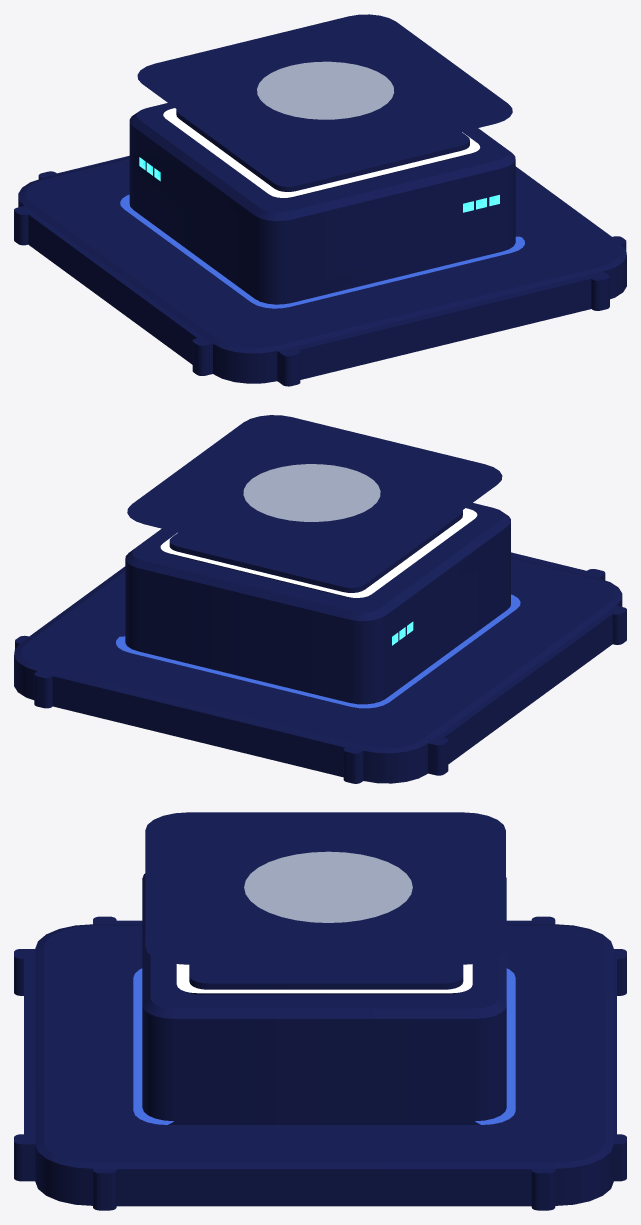
The model's file is Work_stuff_10.glb.
The picture shows the model from 3 angles, top to bottom: view 1: azimuth 30°, elevation 25°; view 2: azimuth 150°, elevation 25°; view 3: azimuth 270°, elevation 25°; orthographic projection. The views are drawn at different scales.
Visible parts, largest first — view 1: Main_platform.001, Main_platform, Suppourt, Platform, Cube.001, Cube.003, a.001, Main_platform.005, Main_platform.007, Main_platform.008; view 2: Main_platform.001, Main_platform, Suppourt, Platform, Cube.002, Cube.003, a.001, Main_platform.005, Main_platform.008, Main_platform.007, Cube.001; view 3: Main_platform, Main_platform.001, Suppourt, Platform, Cube.004, a.001, Main_platform.005, Cube.001, Main_platform.008, Main_platform.007, Cube.002, Cube.003.
Part boxes in pixels (x1,y1,x2,y2): Main_platform.001: (129,103,515,304); Main_platform: (18,157,626,383); Suppourt: (188,35,456,148); Platform: (137,14,512,172); Cube.001: (277,271,609,386); Cube.003: (14,206,212,375); a.001: (257,61,393,119); Main_platform.005: (176,109,469,198); Main_platform.007: (163,108,480,197); Main_platform.008: (120,194,524,308); Main_platform.001: (125,503,510,704); Main_platform: (14,557,622,783); Suppourt: (180,439,447,552); Platform: (127,415,502,573); Cube.002: (34,671,363,783); Cube.003: (428,605,626,775); a.001: (243,464,380,521); Main_platform.005: (169,510,462,597); Main_platform.008: (116,594,520,708); Main_platform.007: (160,508,477,597); Cube.001: (511,552,605,580); Main_platform: (35,924,613,1205); Main_platform.001: (142,873,506,1124); Suppourt: (201,833,458,941); Platform: (145,812,505,964); Cube.004: (93,1169,555,1210); a.001: (244,851,412,922); Main_platform.005: (189,964,463,994); Cube.001: (14,949,35,1181); Main_platform.008: (133,968,515,1124); Main_platform.007: (176,964,472,993); Cube.002: (614,949,626,1181); Cube.003: (93,916,555,924).
Size of the model in its own units: 9.59 by 3.47 by 9.67.
